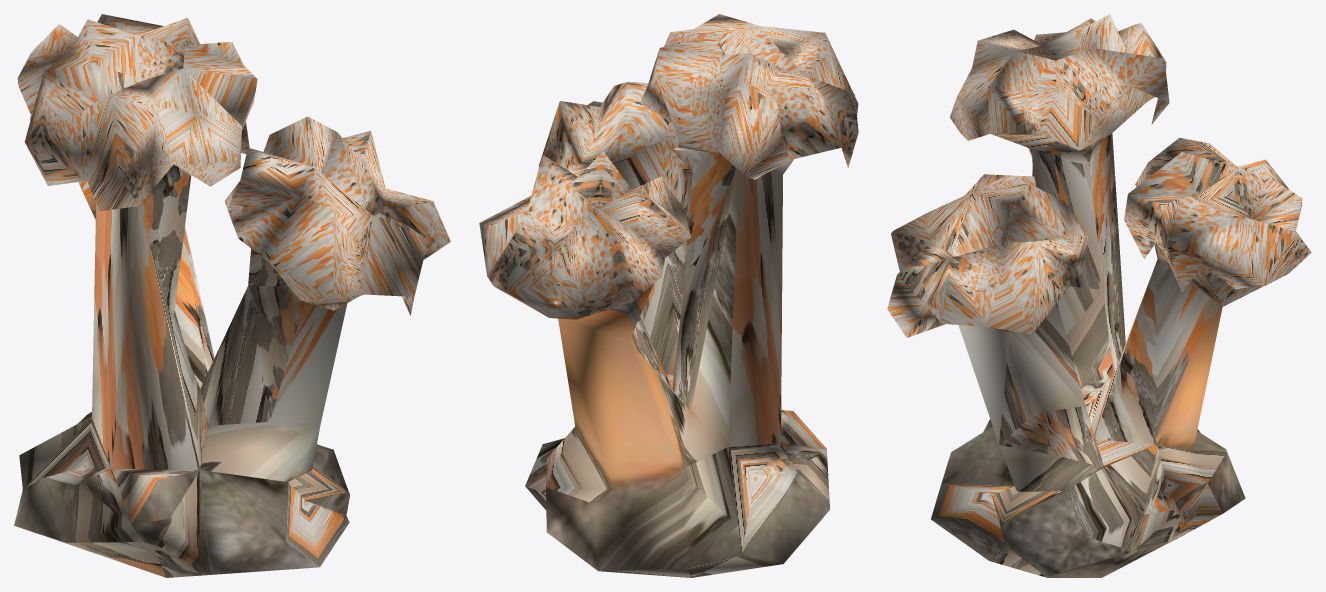
The model's file is zeeanjelier.glb.
3 views of the same model, side by side, from view 1: azimuth 30°, elevation 25°; view 2: azimuth 150°, elevation 25°; view 3: azimuth 270°, elevation 25° (orthographic). The views are drawn at different scales.
Visible parts, largest first — view 1: tripo_node_7412e3d7-54b3-40b6-9ef6-e23e9b51c916; view 2: tripo_node_7412e3d7-54b3-40b6-9ef6-e23e9b51c916; view 3: tripo_node_7412e3d7-54b3-40b6-9ef6-e23e9b51c916.
Part boxes in pixels (bbox=[...]): tripo_node_7412e3d7-54b3-40b6-9ef6-e23e9b51c916: bbox=[14, 14, 450, 577]; tripo_node_7412e3d7-54b3-40b6-9ef6-e23e9b51c916: bbox=[479, 14, 858, 577]; tripo_node_7412e3d7-54b3-40b6-9ef6-e23e9b51c916: bbox=[887, 14, 1311, 577].
Bounding box in the file's own units: 0.1671 × 0.2456 × 0.1976.
Materials: 1 (1 with a texture image).
